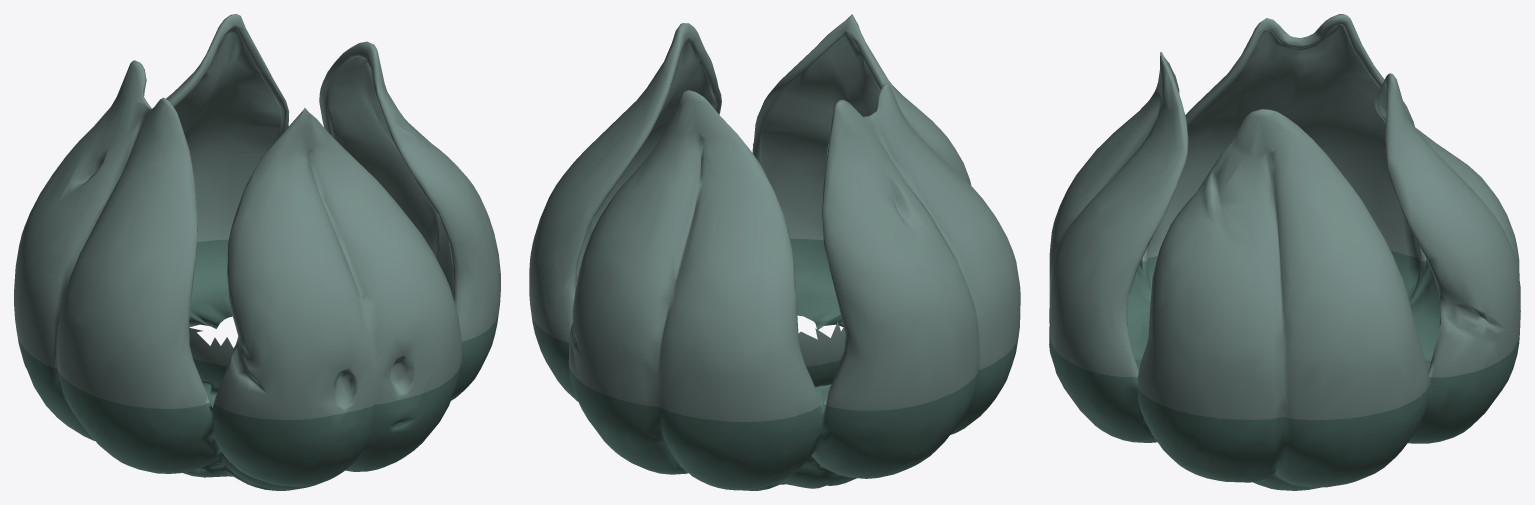
Rendered from wisp.glb.
3 renders of one model, left to right at view 1: azimuth 30°, elevation 25°; view 2: azimuth 150°, elevation 25°; view 3: azimuth 270°, elevation 25°, orthographic.
Visible parts, largest first — view 1: wisp; view 2: wisp; view 3: wisp.
Part boxes in pixels (bbox=[...]): wisp: bbox=[14, 14, 500, 490]; wisp: bbox=[529, 14, 1020, 490]; wisp: bbox=[1049, 14, 1520, 490].
Bounding box in the file's own units: 1.38 × 1.3 × 1.36.
